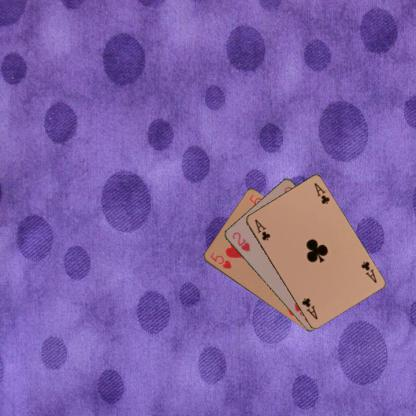2h: (229, 229, 251, 253)
5h: (207, 250, 233, 270)
Ac: (358, 259, 378, 284), (252, 217, 271, 242)
